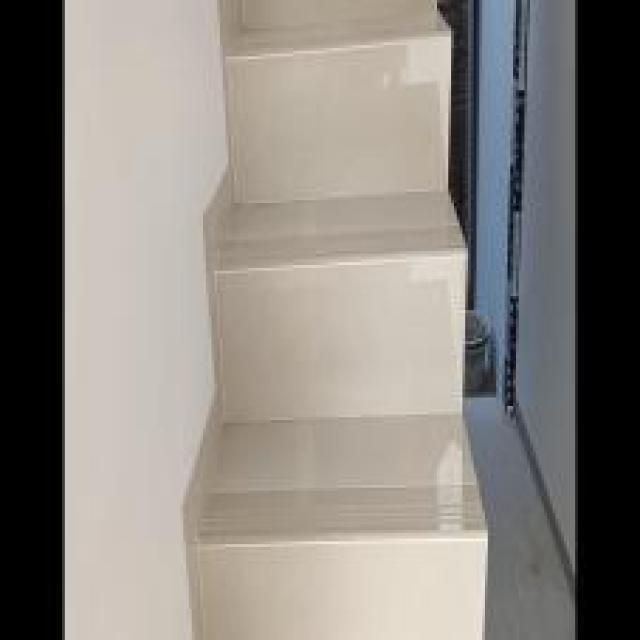upstair: (199, 38, 495, 638)
